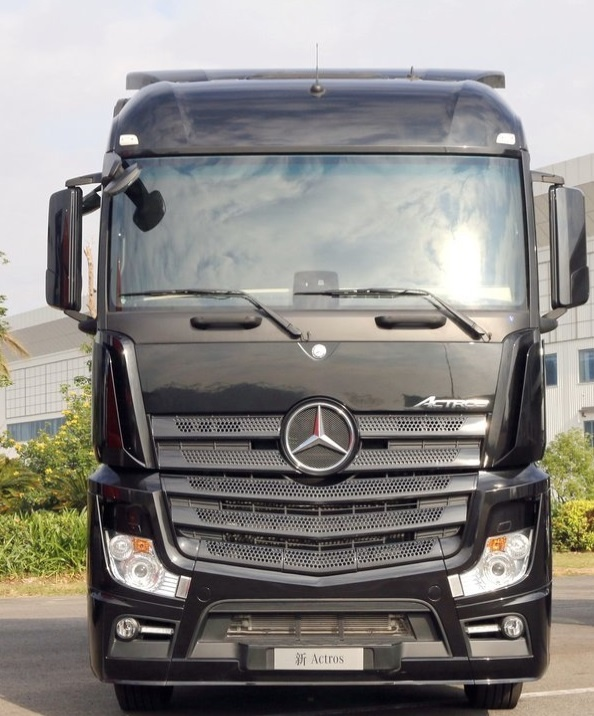heavy truck: (57, 57, 576, 714)
